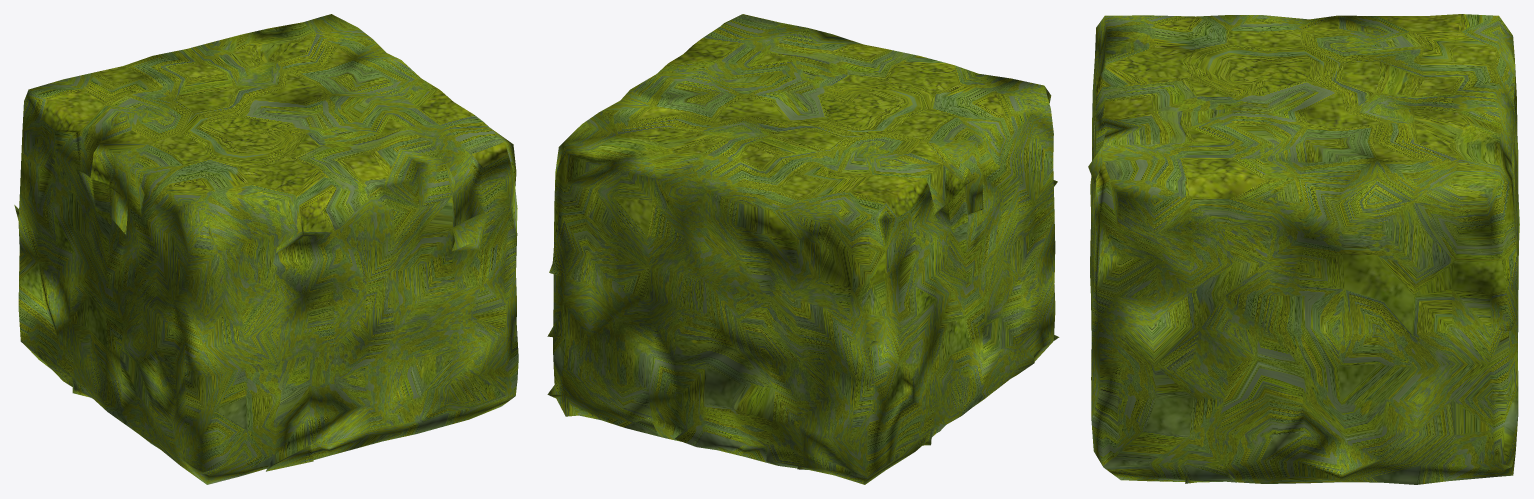
The model's file is wall.glb.
The picture shows the model from 3 angles, left to right: view 1: azimuth 30°, elevation 25°; view 2: azimuth 150°, elevation 25°; view 3: azimuth 270°, elevation 25°; orthographic projection. The views are drawn at different scales.
Visible parts, largest first — view 1: tripo_node_58fbbf94-f458-42b5-a452-b43769f3e630; view 2: tripo_node_58fbbf94-f458-42b5-a452-b43769f3e630; view 3: tripo_node_58fbbf94-f458-42b5-a452-b43769f3e630.
Boxes of the visible parts, bbox=[...] form: tripo_node_58fbbf94-f458-42b5-a452-b43769f3e630: bbox=[14, 14, 518, 484]; tripo_node_58fbbf94-f458-42b5-a452-b43769f3e630: bbox=[547, 14, 1059, 484]; tripo_node_58fbbf94-f458-42b5-a452-b43769f3e630: bbox=[1088, 14, 1519, 484].
Size of the model in its own units: 1.26 by 1 by 1.25.
1 material, 1 textured.
